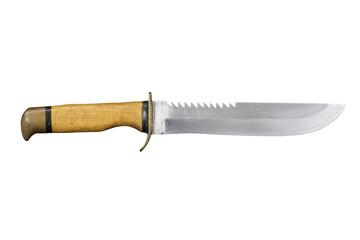knife: (20, 89, 346, 156)
